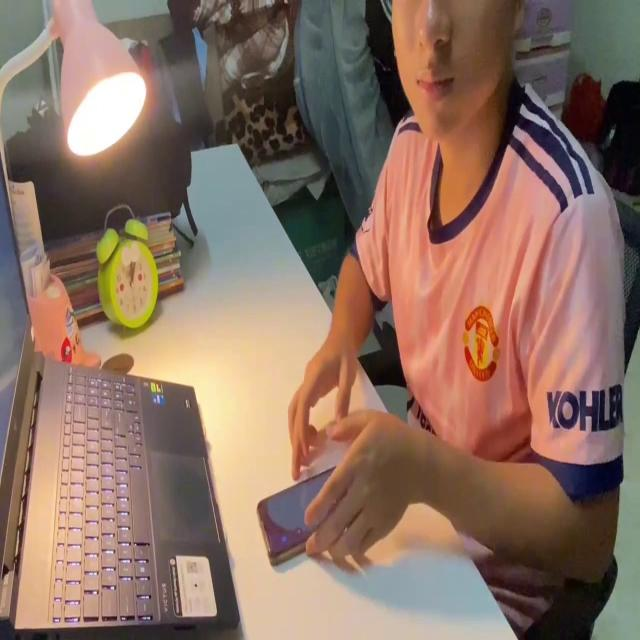laptop: (0, 144, 243, 640)
phone: (255, 465, 337, 567)
student: (286, 0, 627, 640)
